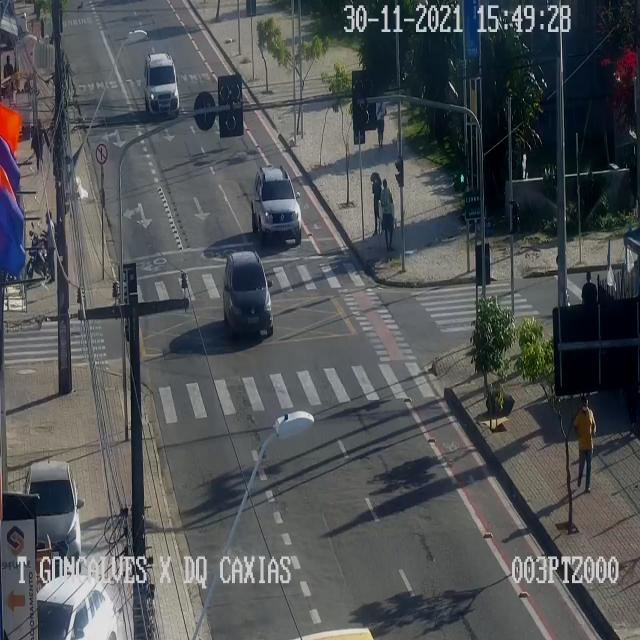Car: (24, 462, 80, 572), (36, 574, 116, 639), (223, 251, 273, 334), (251, 166, 301, 243), (144, 52, 178, 112)
Motorcycle: (26, 232, 52, 285)
